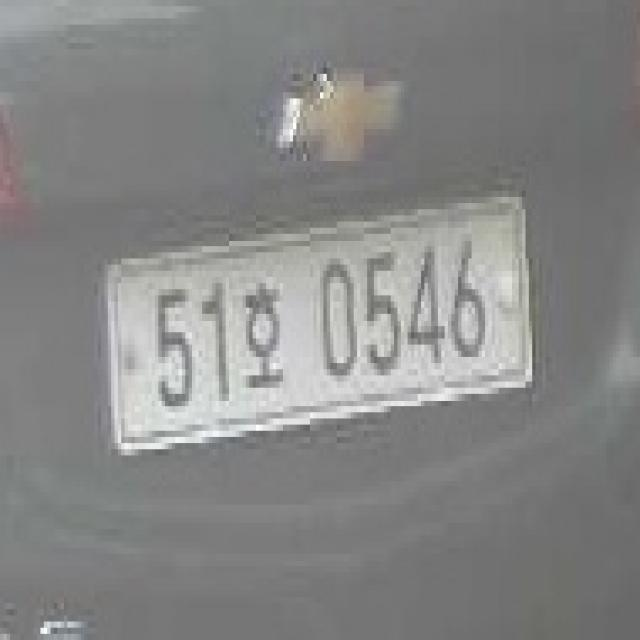0: (317, 247, 361, 390)
1: (197, 272, 234, 416)
4: (406, 242, 446, 382)
5: (150, 276, 193, 421), (364, 250, 402, 390)
6: (450, 235, 489, 374)
ho: (238, 272, 288, 412)
license_plate: (94, 158, 550, 492)
